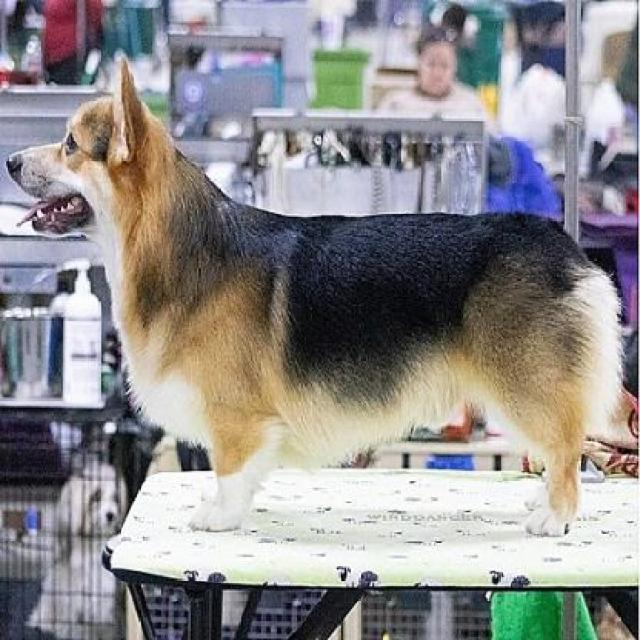Dog: (4, 54, 638, 540)
